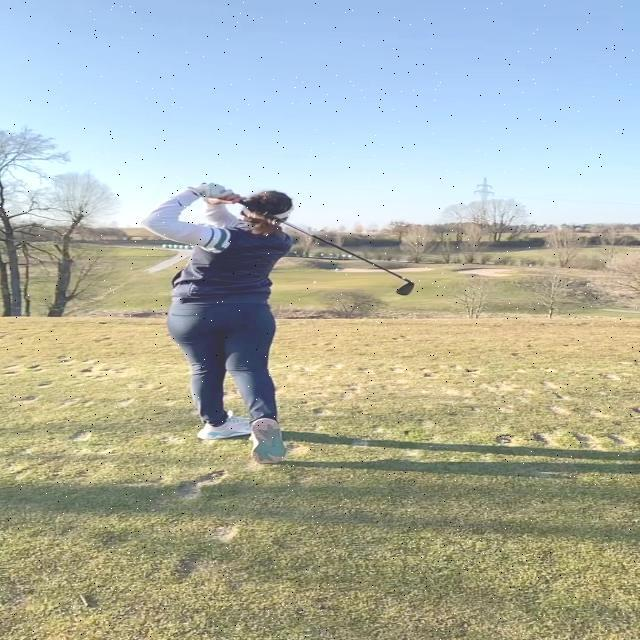golf club-handle: (201, 181, 418, 297)
golf club-head: (395, 283, 415, 297)
